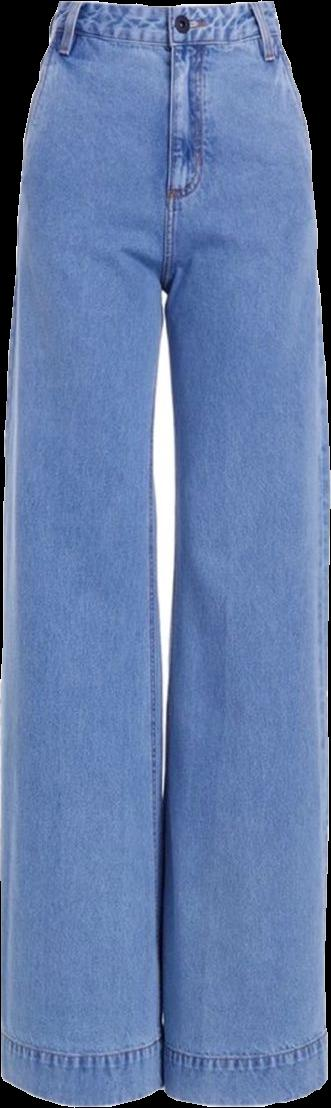Hemline: (153, 1065, 330, 1107), (0, 1069, 163, 1106)
Pantleg: (156, 2, 329, 1107), (0, 3, 170, 1105)
Waistline: (46, 22, 279, 53), (57, 0, 274, 14)
